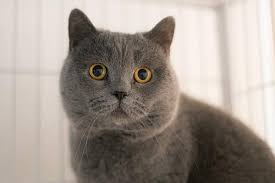cat: (55, 4, 275, 182)
